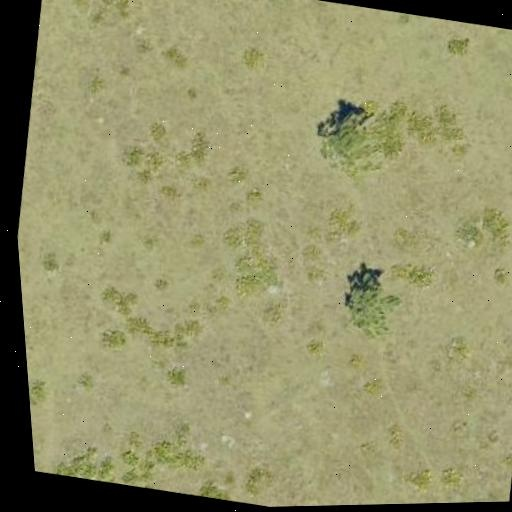tree-top: (310, 104, 401, 177), (332, 260, 400, 340)
